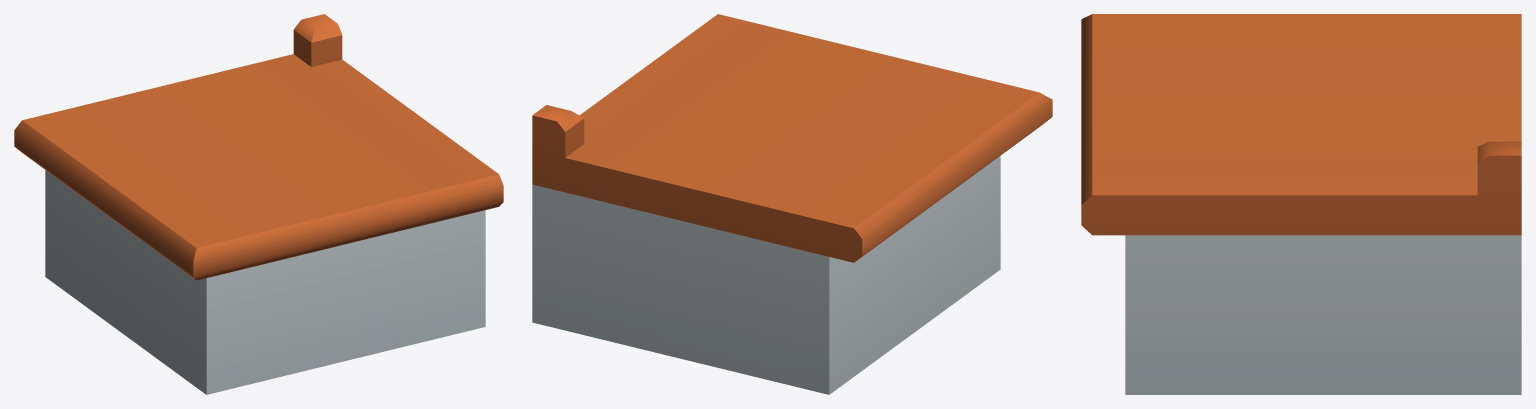
File: kitchencounter-outercorner-backsplash.glb
The picture shows the model from 3 angles, left to right: view 1: azimuth 30°, elevation 25°; view 2: azimuth 150°, elevation 25°; view 3: azimuth 270°, elevation 25°; orthographic projection. The views are drawn at different scales.
Parts seen in each view (by area): view 1: kitchencounter_outercorner_backsplash; view 2: kitchencounter_outercorner_backsplash; view 3: kitchencounter_outercorner_backsplash.
Boxes of the visible parts, <box> form: kitchencounter_outercorner_backsplash: <box>14,14,503,394</box>; kitchencounter_outercorner_backsplash: <box>532,14,1052,394</box>; kitchencounter_outercorner_backsplash: <box>1081,14,1521,394</box>.
Bounding box in the file's own units: 2 × 1.2 × 2.
1 material, 1 textured.
